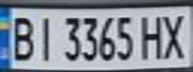3: (57, 12, 81, 63), (78, 12, 100, 63)
5: (115, 12, 139, 61)
6: (96, 12, 121, 62)
B: (3, 11, 39, 62)
H: (136, 11, 169, 61)
I: (33, 12, 57, 63)
X: (157, 11, 193, 60)
